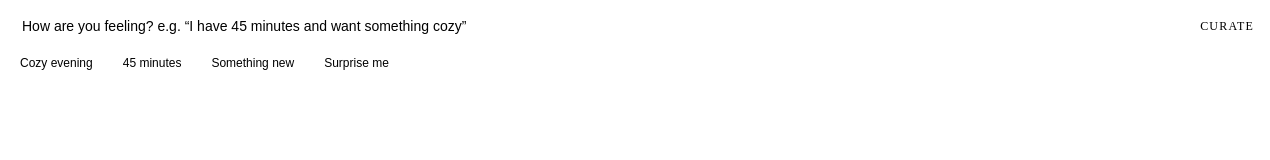
MoodBar › chips fill the input without submitting
This screenshot has width=1270, height=160.
Step 1. Click the button "Surprise me" → click(356, 63), box 312,52 -> 401,74
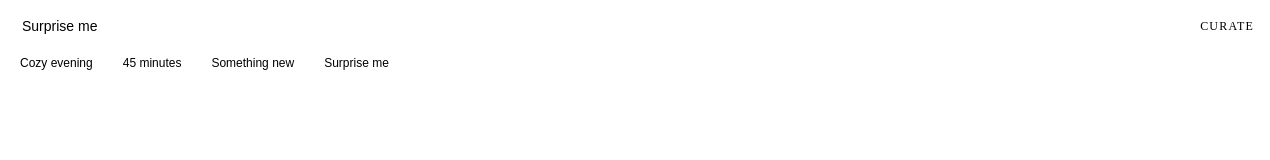
Expected: the field named "Mood" holds "Surprise me", 8,8 -> 1174,44
